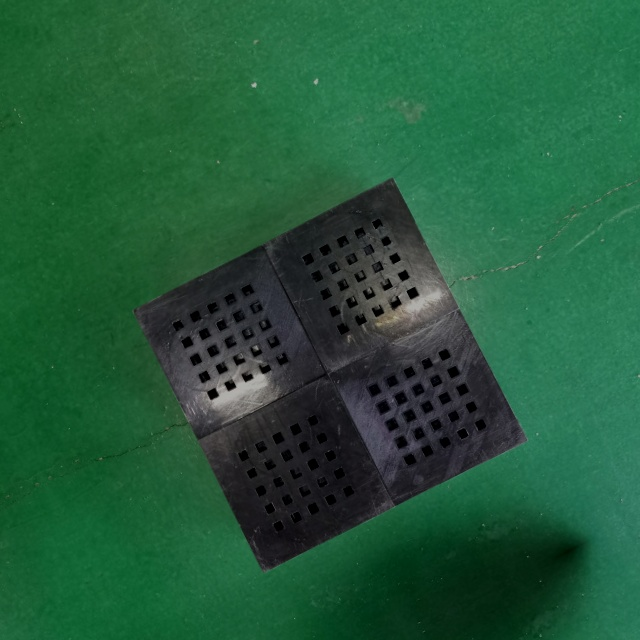pallet: (121, 161, 535, 587)
